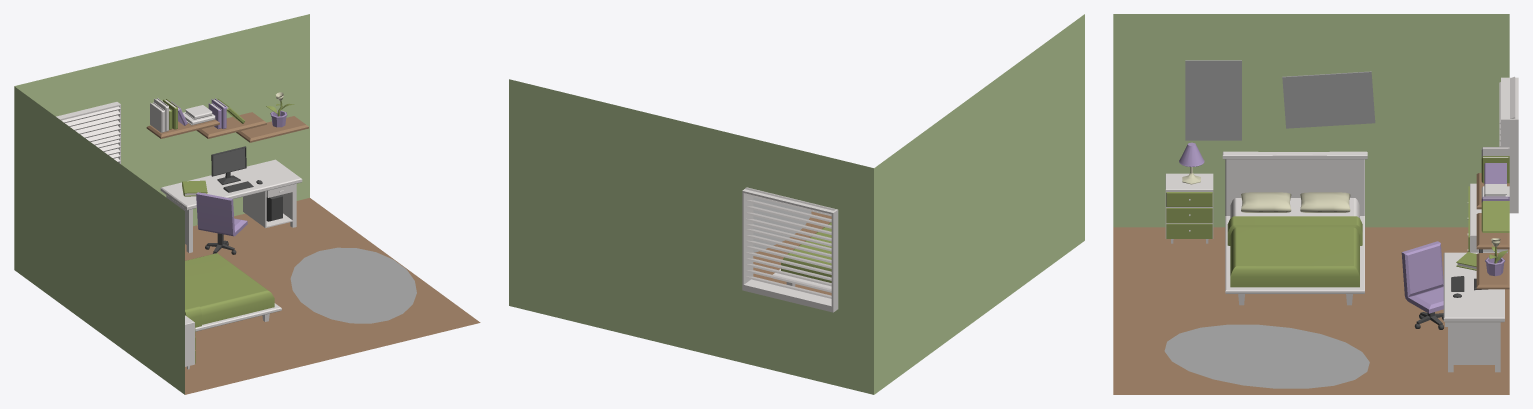
File: bedroom.fbx
The picture shows the model from 3 angles, left to right: view 1: azimuth 30°, elevation 25°; view 2: azimuth 150°, elevation 25°; view 3: azimuth 270°, elevation 25°; orthographic projection. The views are drawn at different scales.
Visible parts, largest first — view 1: ambientLight2; view 2: ambientLight2; view 3: ambientLight2.
Boxes of the visible parts, x1,y1,x2,y2 form: ambientLight2: (14, 14, 480, 394); ambientLight2: (509, 14, 1084, 394); ambientLight2: (1113, 14, 1518, 394).
Size of the model in its own units: 14.29 by 8.48 by 14.61.
